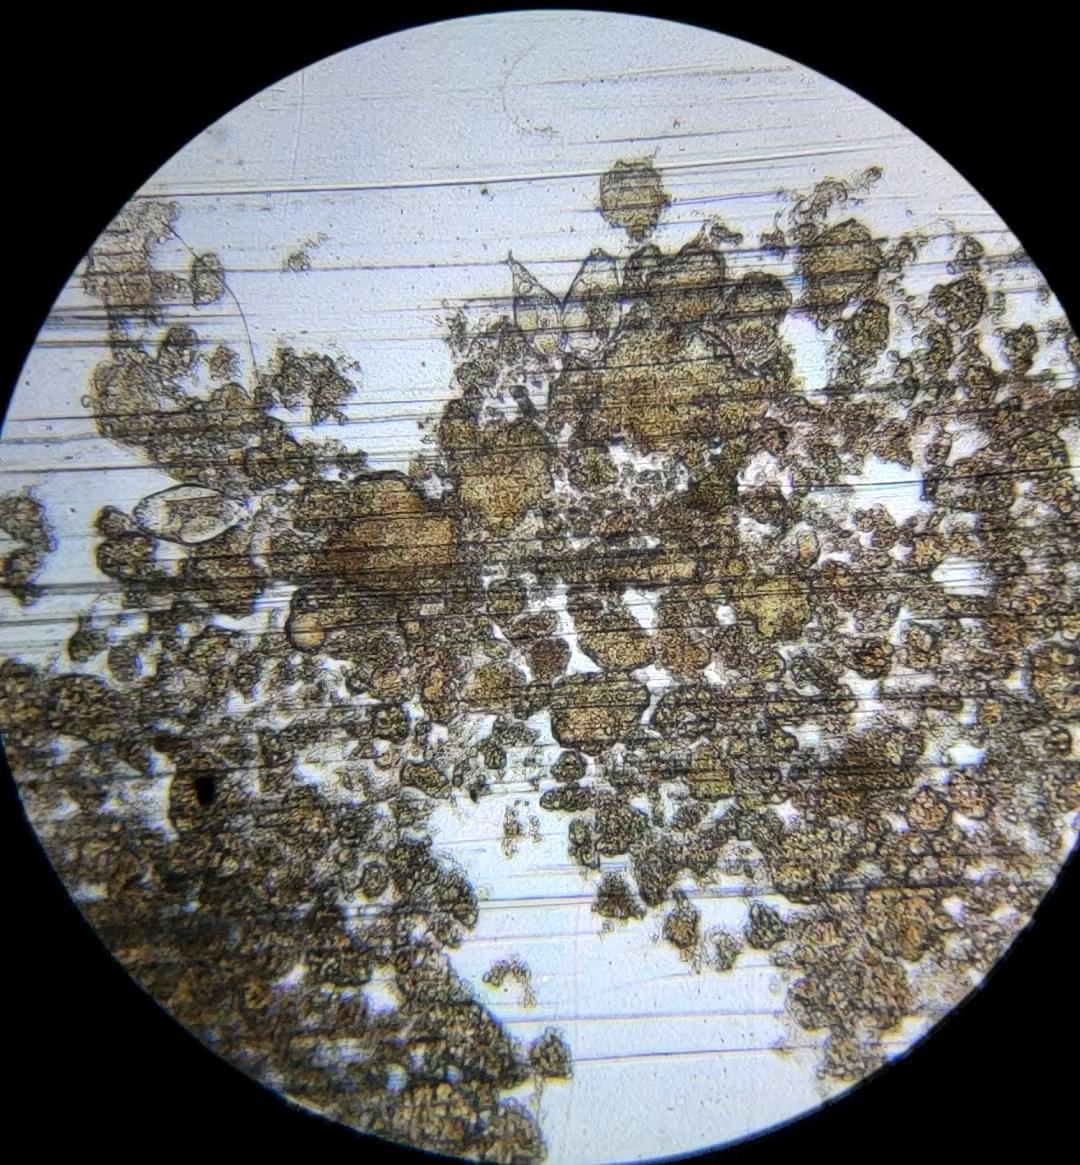Do: (497, 249, 566, 388), (560, 248, 622, 375), (129, 485, 252, 547)
